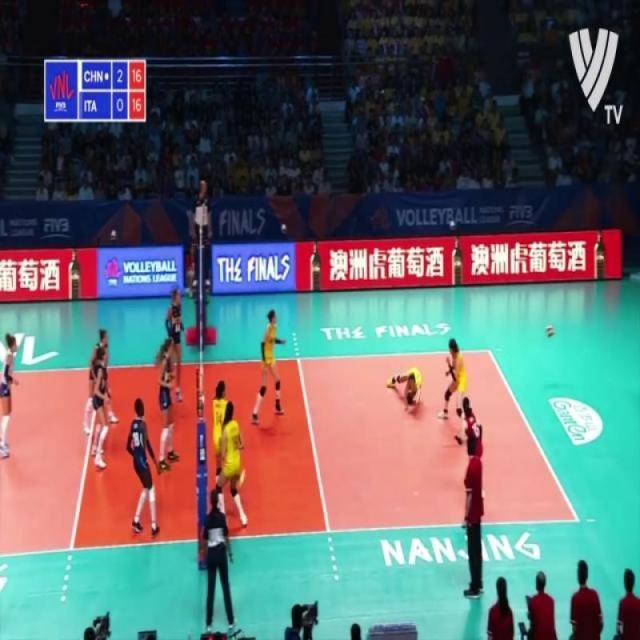volleyball: (543, 324, 555, 339)
